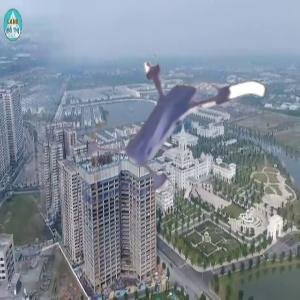drone: (92, 48, 256, 212)
